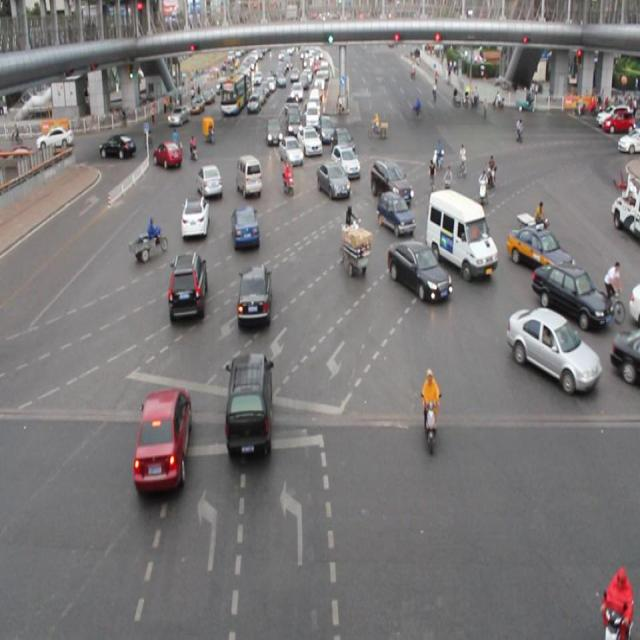car: (131, 385, 194, 497), (507, 307, 594, 388), (224, 350, 275, 459), (531, 262, 608, 329), (385, 239, 450, 305), (506, 217, 571, 274), (167, 249, 209, 326), (439, 196, 484, 254), (236, 262, 272, 328), (369, 155, 412, 206), (375, 187, 414, 237), (610, 325, 640, 388), (230, 204, 260, 253), (180, 193, 210, 241), (317, 160, 350, 203), (99, 133, 137, 166), (196, 160, 224, 201), (152, 137, 184, 172), (332, 138, 359, 178), (276, 133, 302, 169), (331, 126, 356, 161), (298, 126, 322, 158)
truck: (423, 186, 496, 280), (235, 152, 262, 202)
